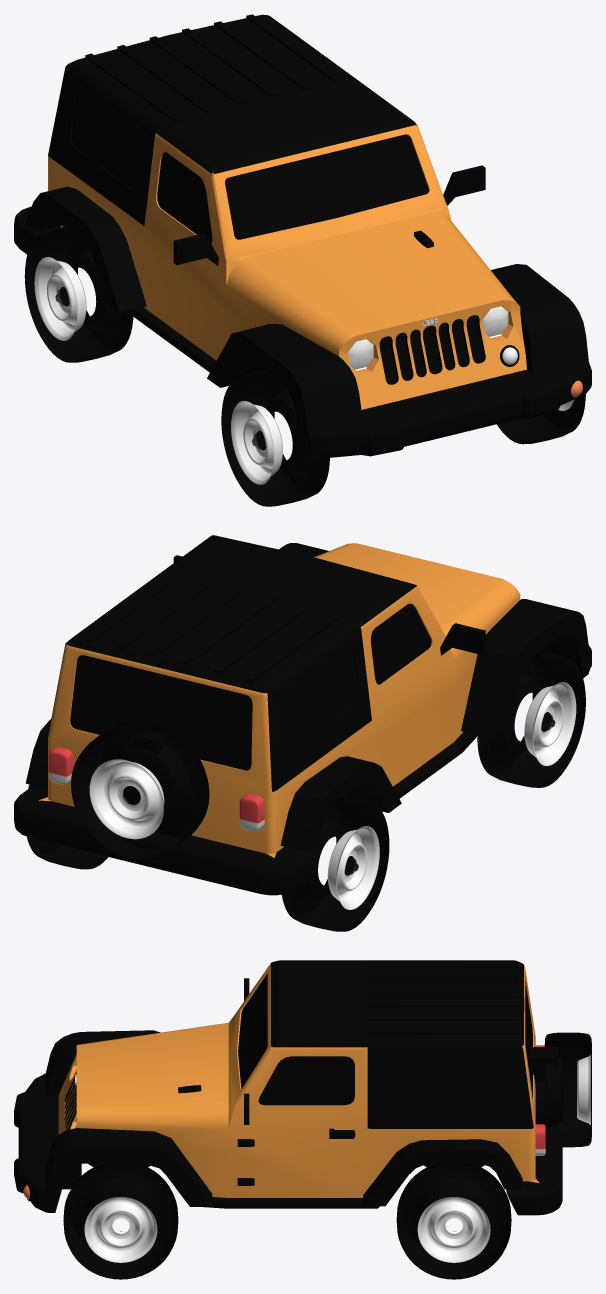
File: offroad_Jeep.glb
3 views of the same model, one above another, from view 1: azimuth 30°, elevation 25°; view 2: azimuth 150°, elevation 25°; view 3: azimuth 270°, elevation 25° (orthographic). The views are drawn at different scales.
Parts seen in each view (by area): view 1: Car, Front_Wheels, Back_Wheels, Cube; view 2: Car, Spare_Wheel, Back_Wheels, Front_Wheels, Cube; view 3: Car, Front_Wheels, Back_Wheels, Spare_Wheel.
Boxes of the visible parts, <box> form: Car: <box>14,14,591,458</box>; Front_Wheels: <box>221,370,585,506</box>; Back_Wheels: <box>24,226,133,362</box>; Cube: <box>173,165,485,265</box>; Car: <box>14,535,591,895</box>; Spare_Wheel: <box>71,719,209,859</box>; Back_Wheels: <box>27,784,389,931</box>; Front_Wheels: <box>477,651,585,787</box>; Cube: <box>173,555,485,655</box>; Car: <box>14,960,562,1215</box>; Front_Wheels: <box>63,1163,178,1279</box>; Back_Wheels: <box>396,1164,511,1279</box>; Spare_Wheel: <box>544,1032,591,1147</box>.
Bounding box in the file's own units: 4.81 × 3.91 × 9.2.
